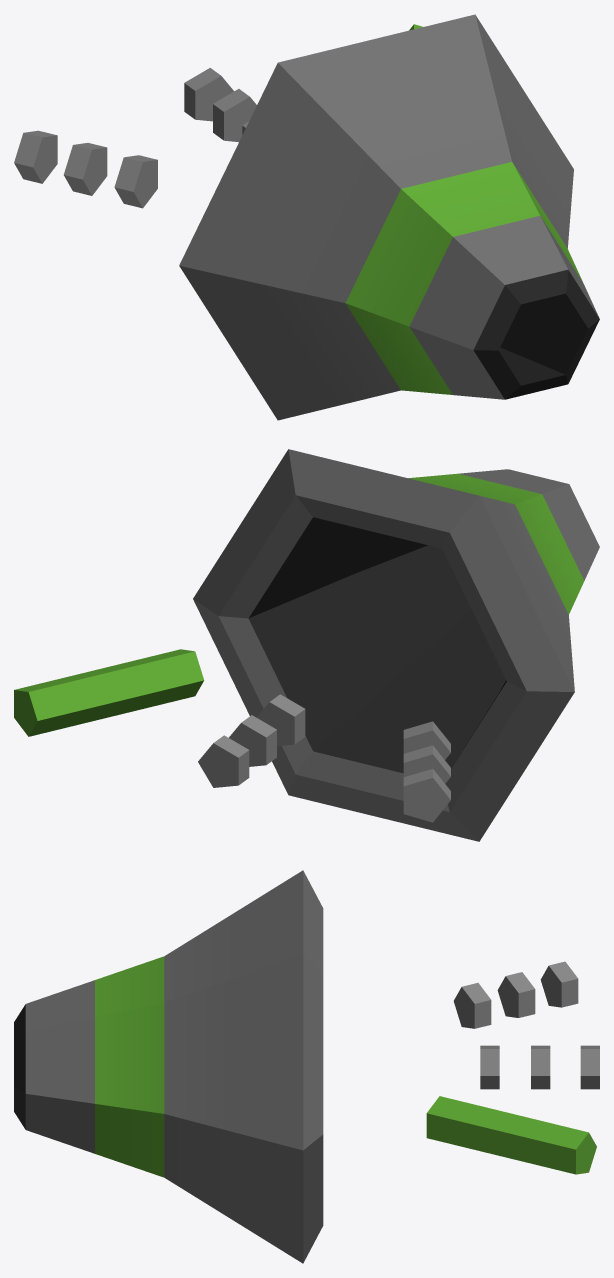
The model's file is ui_soundIconC.fbx.
3 views of the same model, one above another, from view 1: azimuth 30°, elevation 25°; view 2: azimuth 150°, elevation 25°; view 3: azimuth 270°, elevation 25° (orthographic). The views are drawn at different scales.
Parts seen in each view (by area): view 1: polySurface320; view 2: polySurface320; view 3: polySurface320.
Boxes of the visible parts, bbox=[...] form: polySurface320: bbox=[14, 14, 599, 420]; polySurface320: bbox=[14, 449, 599, 841]; polySurface320: bbox=[14, 870, 599, 1263].
Bounding box in the file's own units: 2.23 × 1.73 × 2.97.
